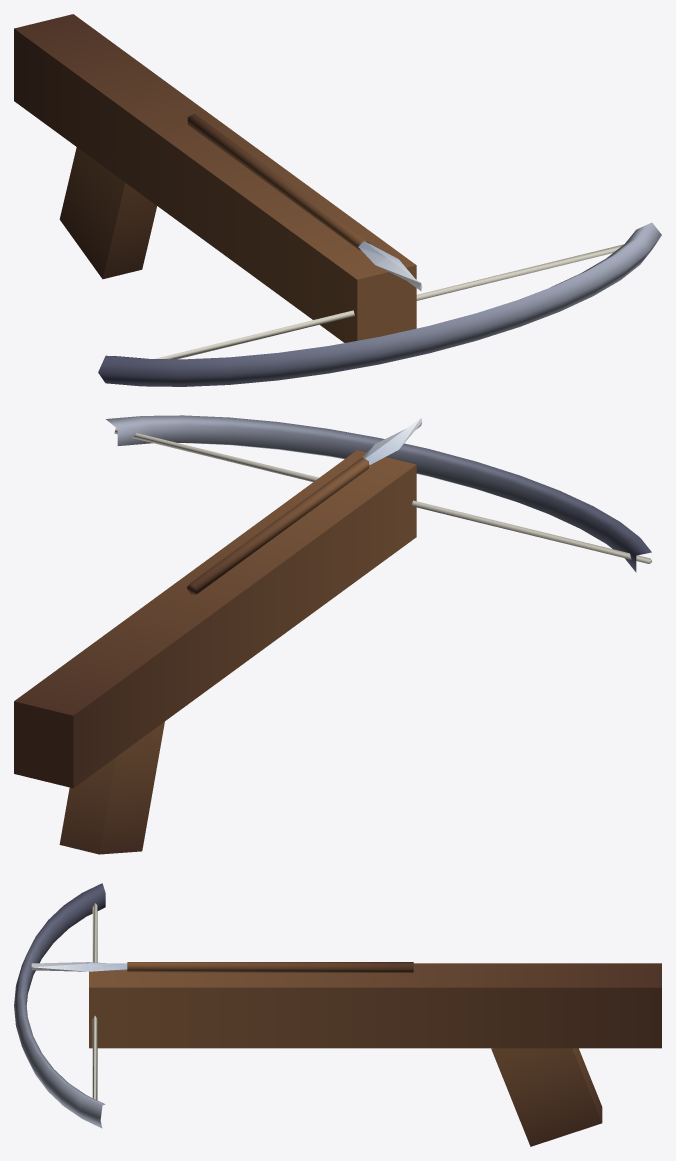
The model's file is crossbow.glb.
3 renders of one model, top to bottom at view 1: azimuth 30°, elevation 25°; view 2: azimuth 150°, elevation 25°; view 3: azimuth 270°, elevation 25°, orthographic. The views are drawn at different scales.
Visible parts, largest first — view 1: crossbow; view 2: crossbow; view 3: crossbow.
Boxes of the visible parts, left/top/right/bottom form: crossbow: left=14, top=14, right=661, bottom=386; crossbow: left=14, top=415, right=651, bottom=854; crossbow: left=14, top=883, right=661, bottom=1146.
Bounding box in the file's own units: 0.5692 × 0.2044 × 0.6785.
